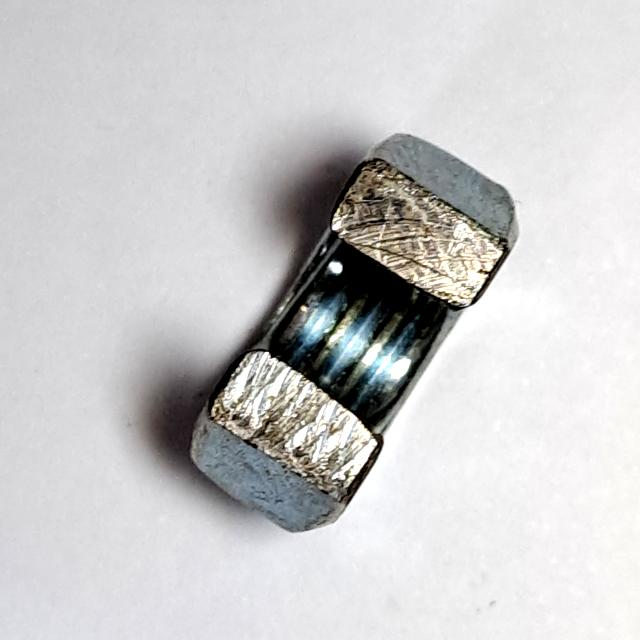Side-Fracture: (179, 113, 530, 553)
